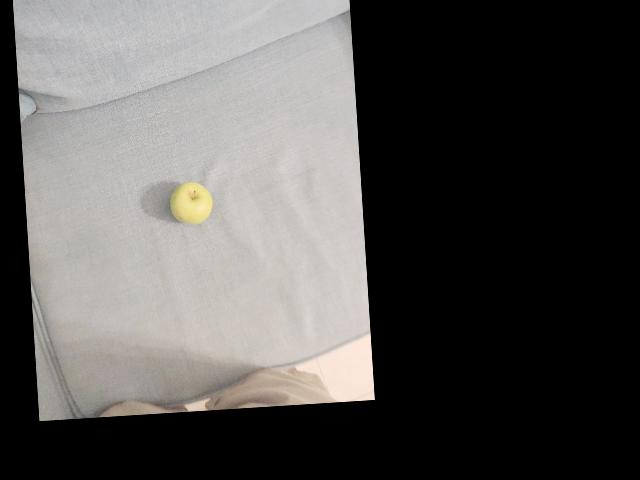apple: (167, 174, 223, 242)
